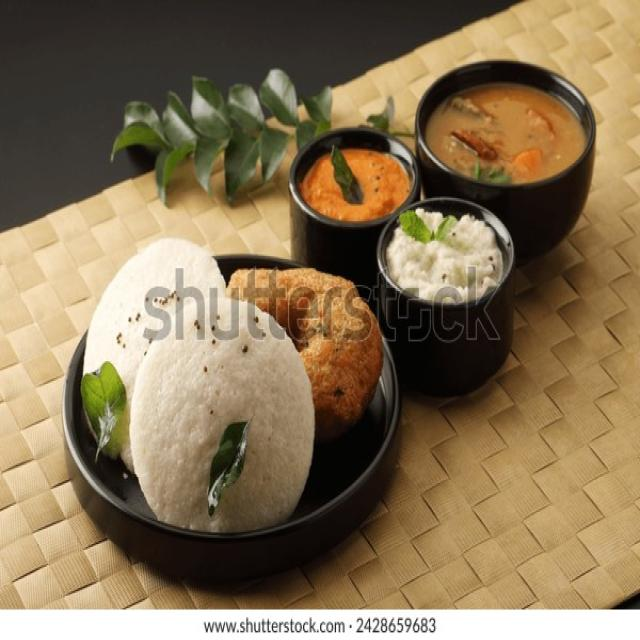IDLI: (130, 312, 314, 530), (83, 239, 221, 399)
MEDU VADA: (229, 268, 382, 442)
